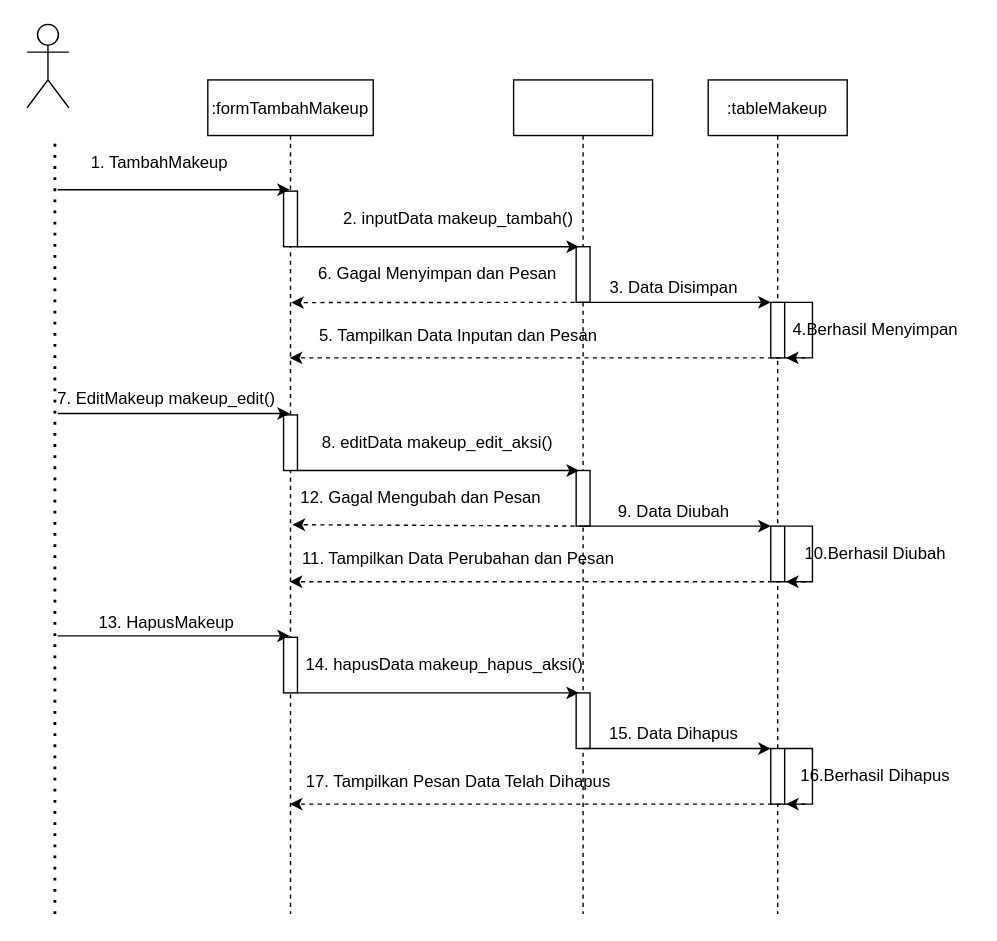
Image size: 997x941. Some labels were removed from this diagram. Each missing label, with the box of its shape:
:controllerMakeup: (512, 79, 653, 914)
Admin: (26, 23, 69, 108)
